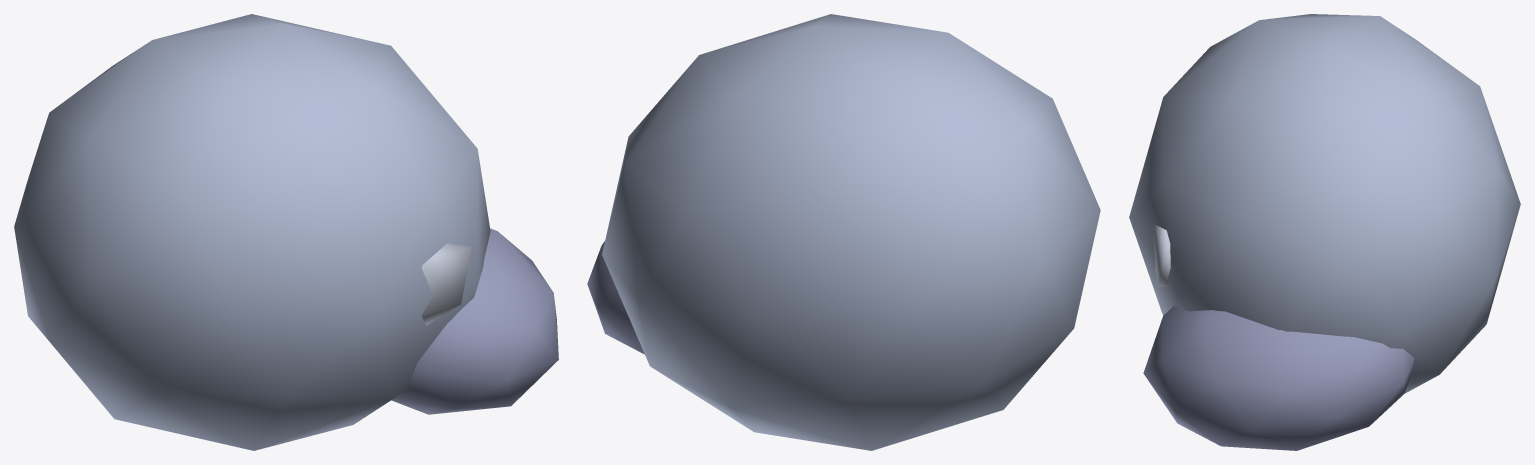
Rendered from rock1.glb.
3 views of the same model, side by side, from view 1: azimuth 30°, elevation 25°; view 2: azimuth 150°, elevation 25°; view 3: azimuth 270°, elevation 25° (orthographic). The views are drawn at different scales.
Parts seen in each view (by area): view 1: RoundedRock_0.001, RoundedRock_1.001, AquaFacet.001; view 2: RoundedRock_0.001, RoundedRock_1.001; view 3: RoundedRock_0.001, RoundedRock_1.001, AquaFacet.001.
Part boxes in pixels (left/top/right/bottom): RoundedRock_0.001: left=14, top=14, right=490, bottom=450; RoundedRock_1.001: left=391, top=228, right=558, bottom=414; AquaFacet.001: left=421, top=243, right=471, bottom=325; RoundedRock_0.001: left=602, top=14, right=1100, bottom=450; RoundedRock_1.001: left=587, top=241, right=644, bottom=354; RoundedRock_0.001: left=1129, top=14, right=1520, bottom=393; RoundedRock_1.001: left=1143, top=306, right=1414, bottom=450; AquaFacet.001: left=1152, top=224, right=1170, bottom=286.
Size of the model in its own units: 1.78 by 1.42 by 1.44.
